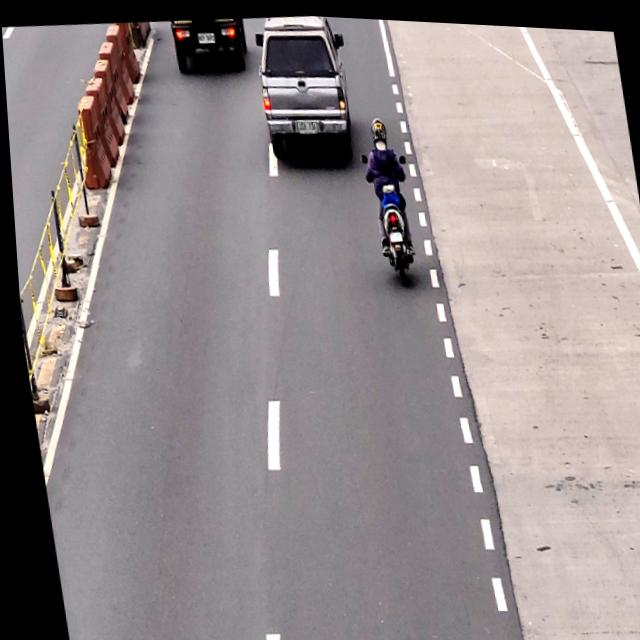Car: (249, 10, 356, 164), (169, 12, 250, 74)
License-Plate: (295, 117, 318, 134), (193, 28, 217, 44)
Motorcycle: (360, 107, 418, 278)
